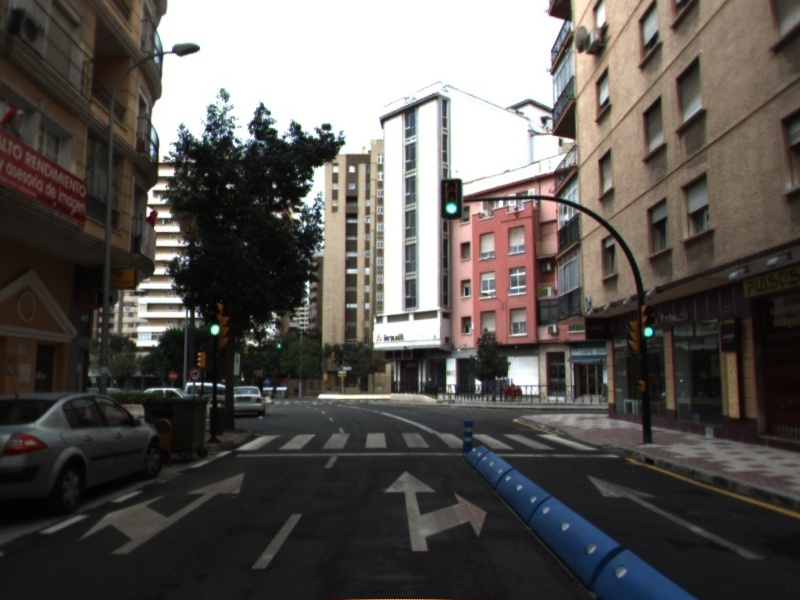STRAIGHT: (584, 472, 769, 563)
STRAIGHT_LEFT: (75, 469, 248, 557)
STRAIGHT_RIGHT: (381, 468, 490, 554)
